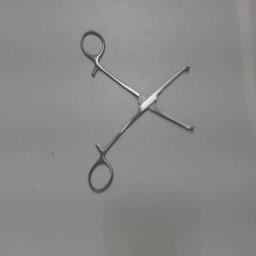Allis Tissue Forceps: (78, 27, 198, 195)
